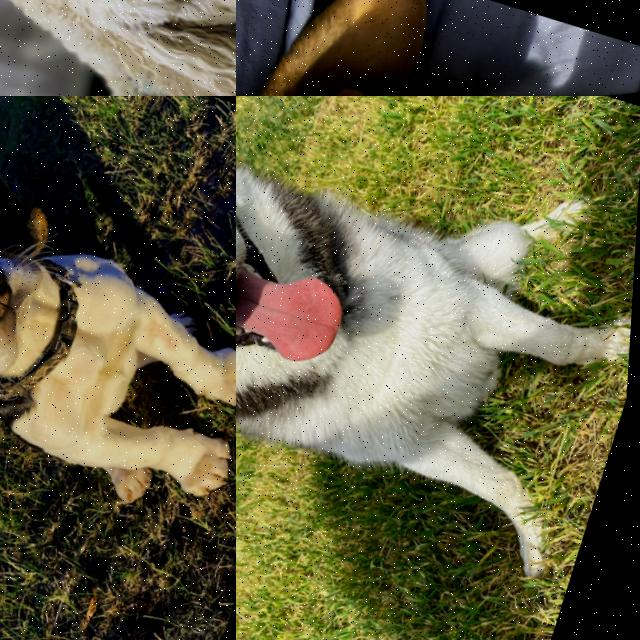beagle: (0, 107, 123, 503), (236, 0, 571, 96)
husky: (236, 96, 431, 495)
poodle: (0, 0, 236, 96)
